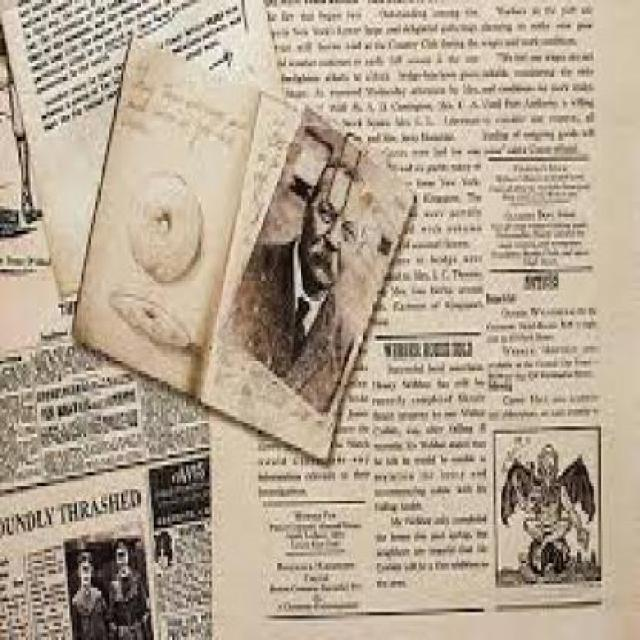PAPER: (210, 0, 638, 637), (68, 32, 417, 466), (0, 0, 285, 302), (0, 297, 212, 636), (216, 101, 410, 412)
